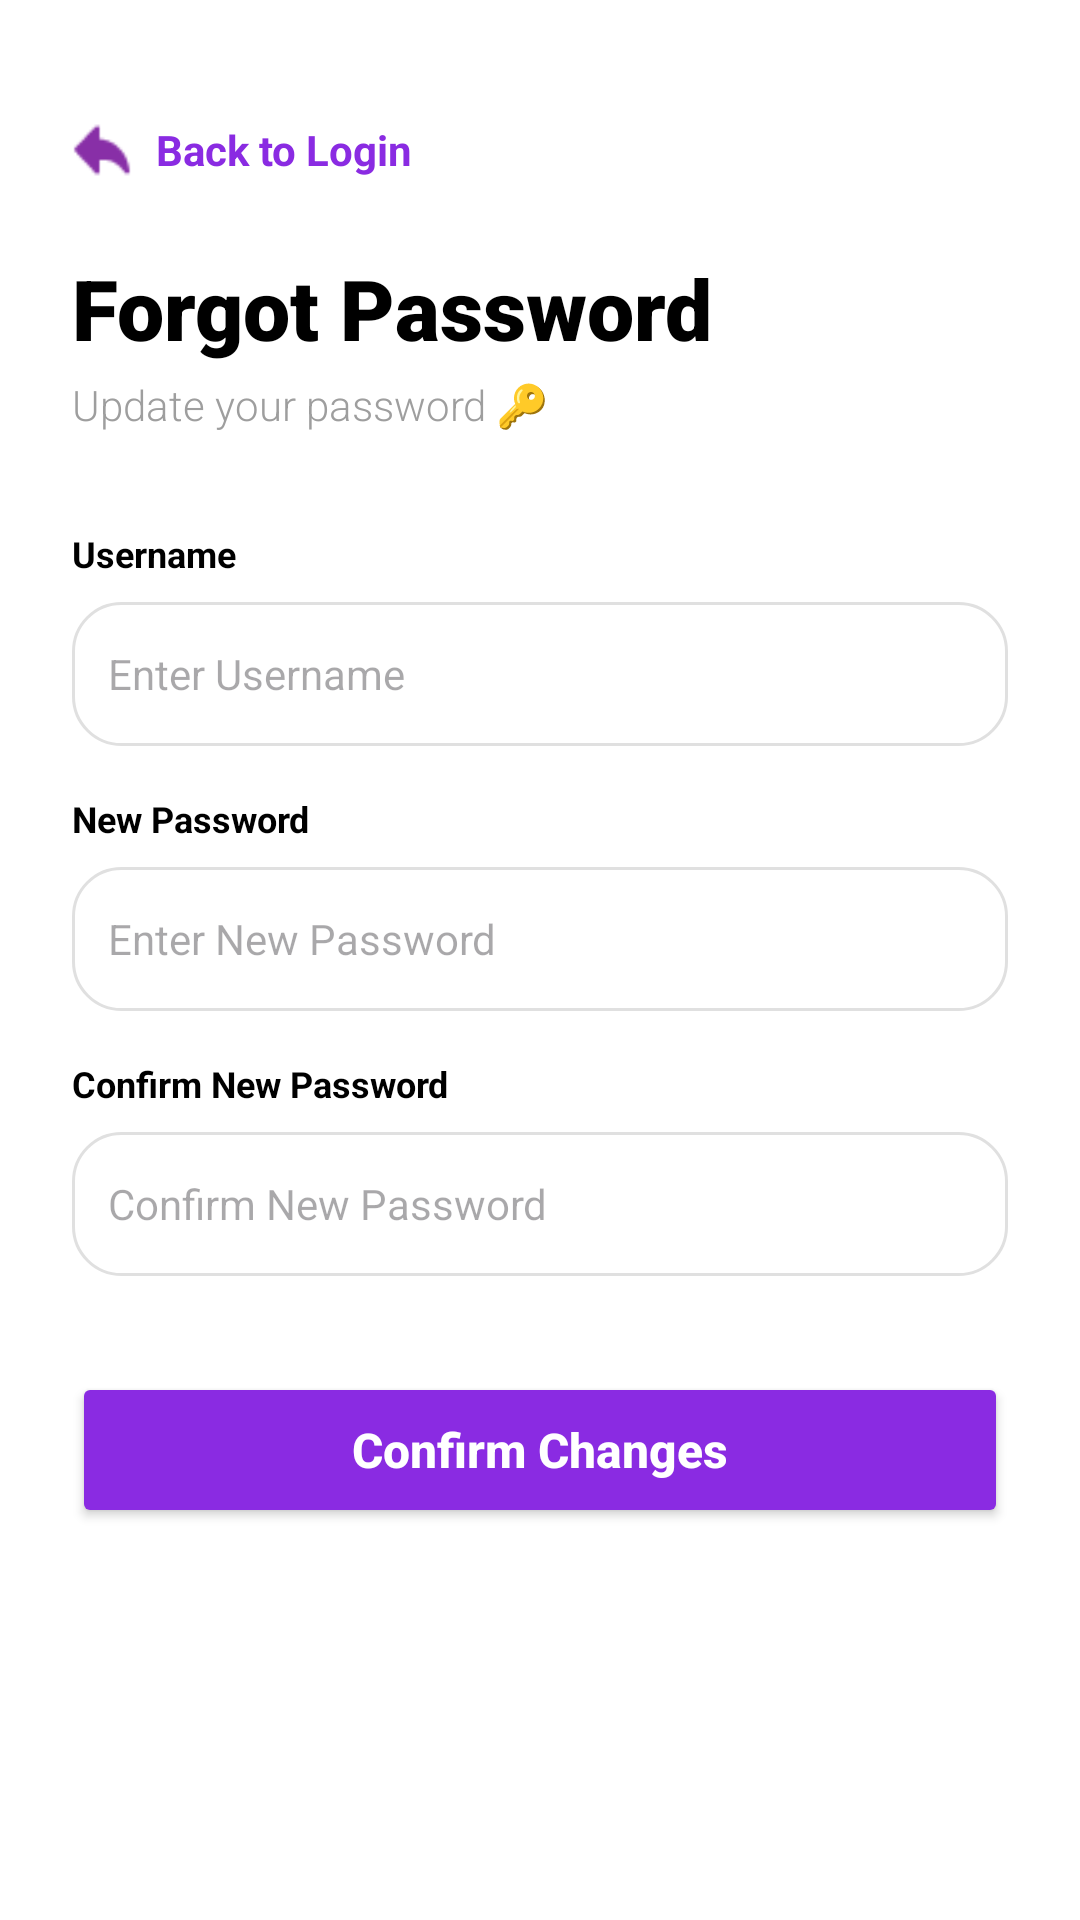

Screen size 1080px×1920px. Icon name, then its box in pixels as (x1=x1, y1=y1, x2=x2, y2=y2):
backarrow: (x1=74, y1=125, x2=130, y2=175)
